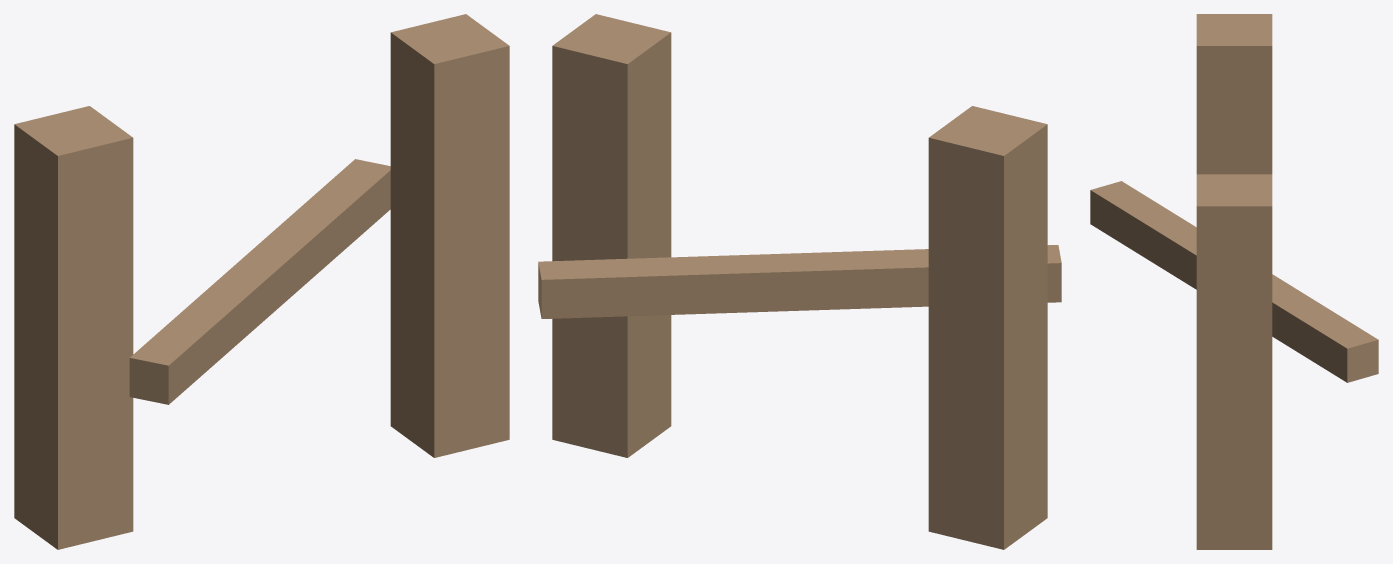
File: pier_crossbrace.glb
3 views of the same model, side by side, from view 1: azimuth 30°, elevation 25°; view 2: azimuth 150°, elevation 25°; view 3: azimuth 270°, elevation 25° (orthographic). The views are drawn at different scales.
Visible parts, largest first — view 1: pile2, pile1, brace; view 2: pile1, pile2, brace; view 3: pile2, brace, pile1.
Part boxes in pixels (bbox=[...]): pile2: bbox=[390, 14, 509, 457]; pile1: bbox=[14, 106, 133, 549]; brace: bbox=[129, 159, 390, 404]; pile1: bbox=[928, 106, 1047, 549]; pile2: bbox=[552, 14, 671, 457]; brace: bbox=[538, 245, 1061, 318]; pile2: bbox=[1196, 174, 1272, 549]; brace: bbox=[1090, 181, 1378, 382]; pile1: bbox=[1196, 14, 1272, 174].
Bounding box in the file's own units: 2.4 × 2 × 1.52.
